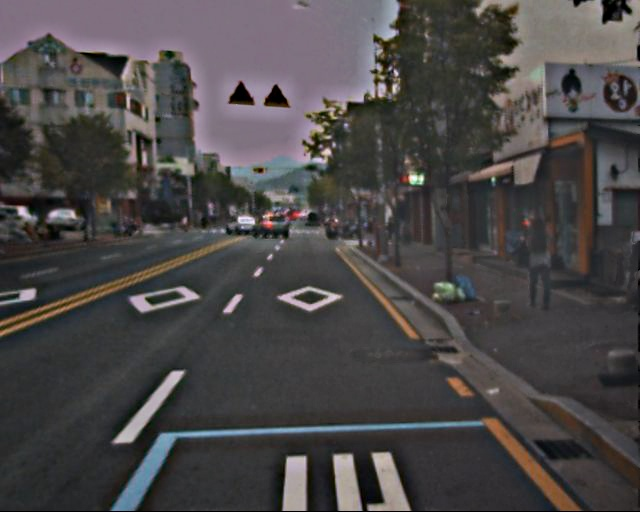person: (515, 214, 559, 316), (620, 229, 640, 306)
